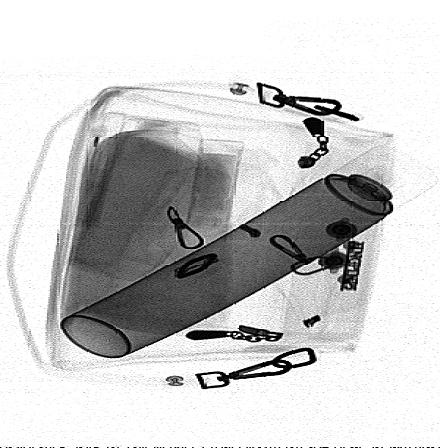Sprayer: (60, 146, 437, 358)
